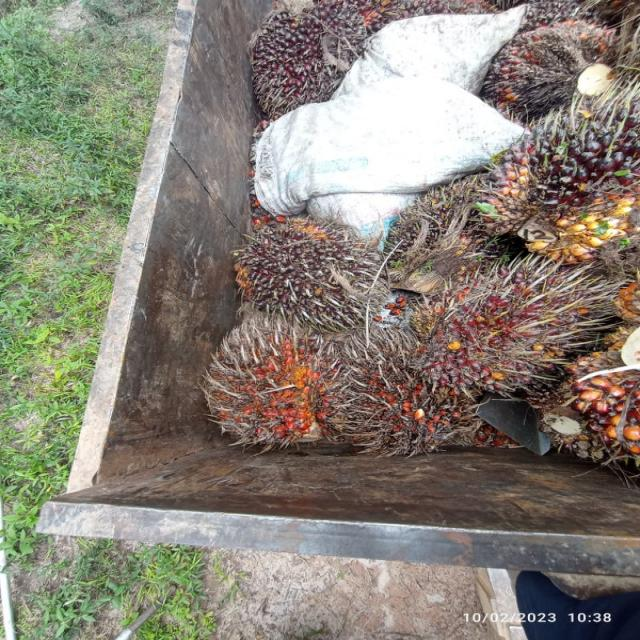fraksi 00: (476, 98, 640, 274), (227, 189, 385, 350), (232, 0, 394, 115)
fraksi 1: (400, 236, 603, 421)
fraksi 4: (183, 303, 350, 462), (330, 321, 484, 477)
